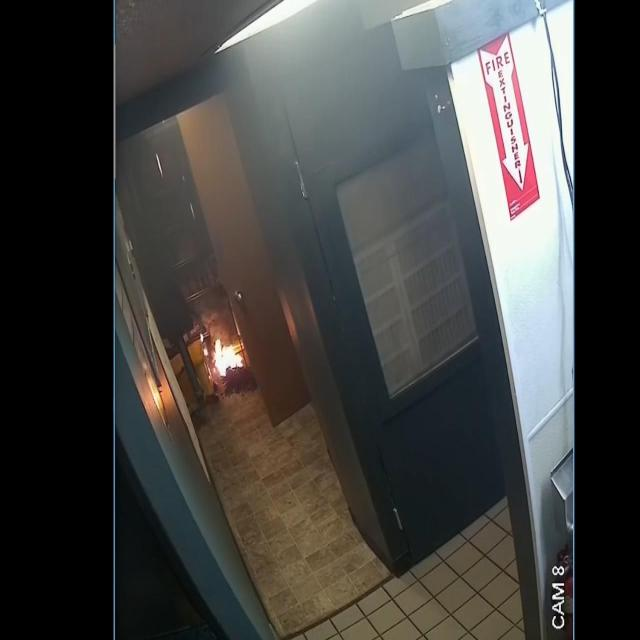fire: (214, 338, 243, 376)
